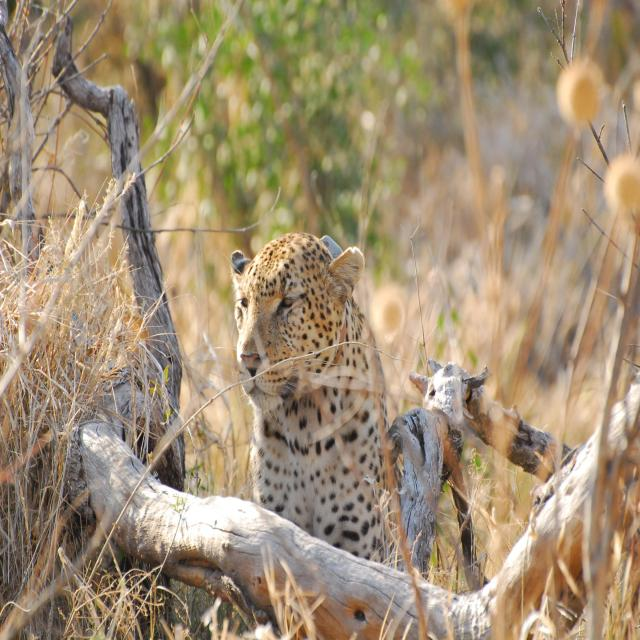Leopard: (218, 226, 408, 563)
